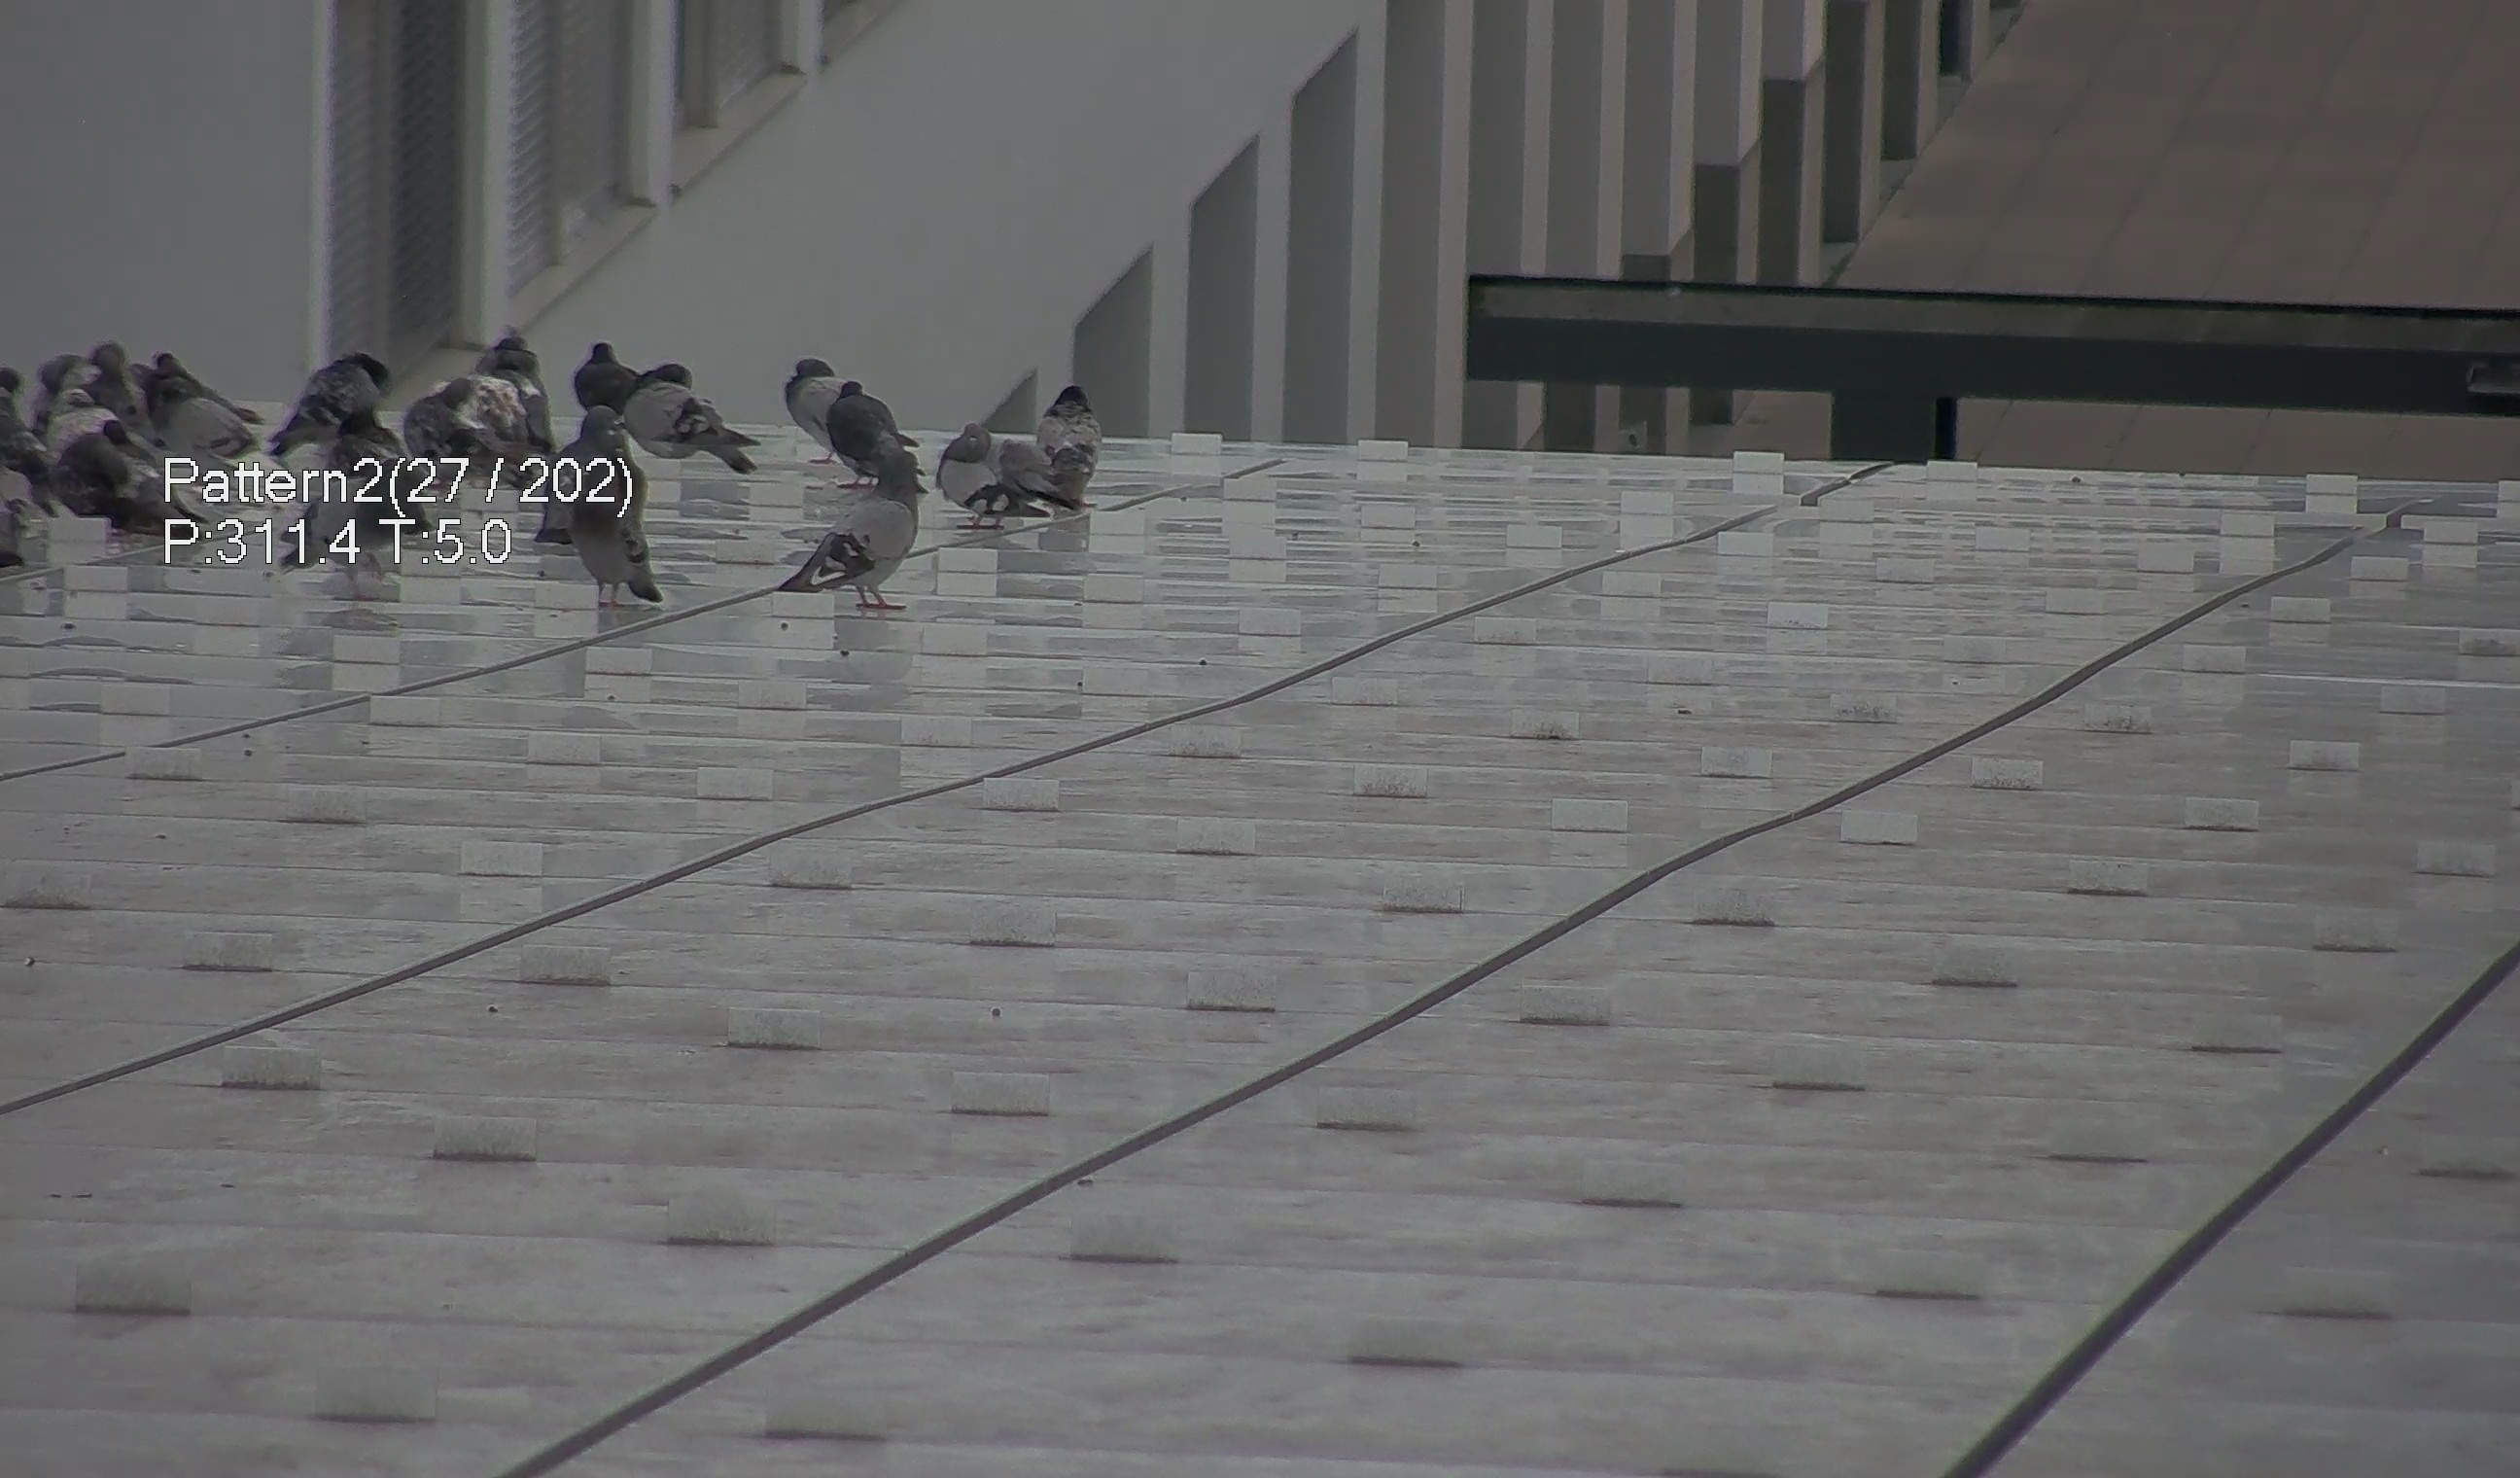Pigeon: (44, 380, 200, 549), (559, 401, 666, 623), (287, 457, 455, 593), (760, 475, 902, 609), (394, 368, 552, 486), (932, 408, 1066, 538), (619, 350, 756, 473), (269, 338, 392, 456), (828, 371, 927, 503), (1023, 371, 1106, 516), (484, 336, 559, 454), (570, 336, 649, 421), (788, 355, 849, 454)
